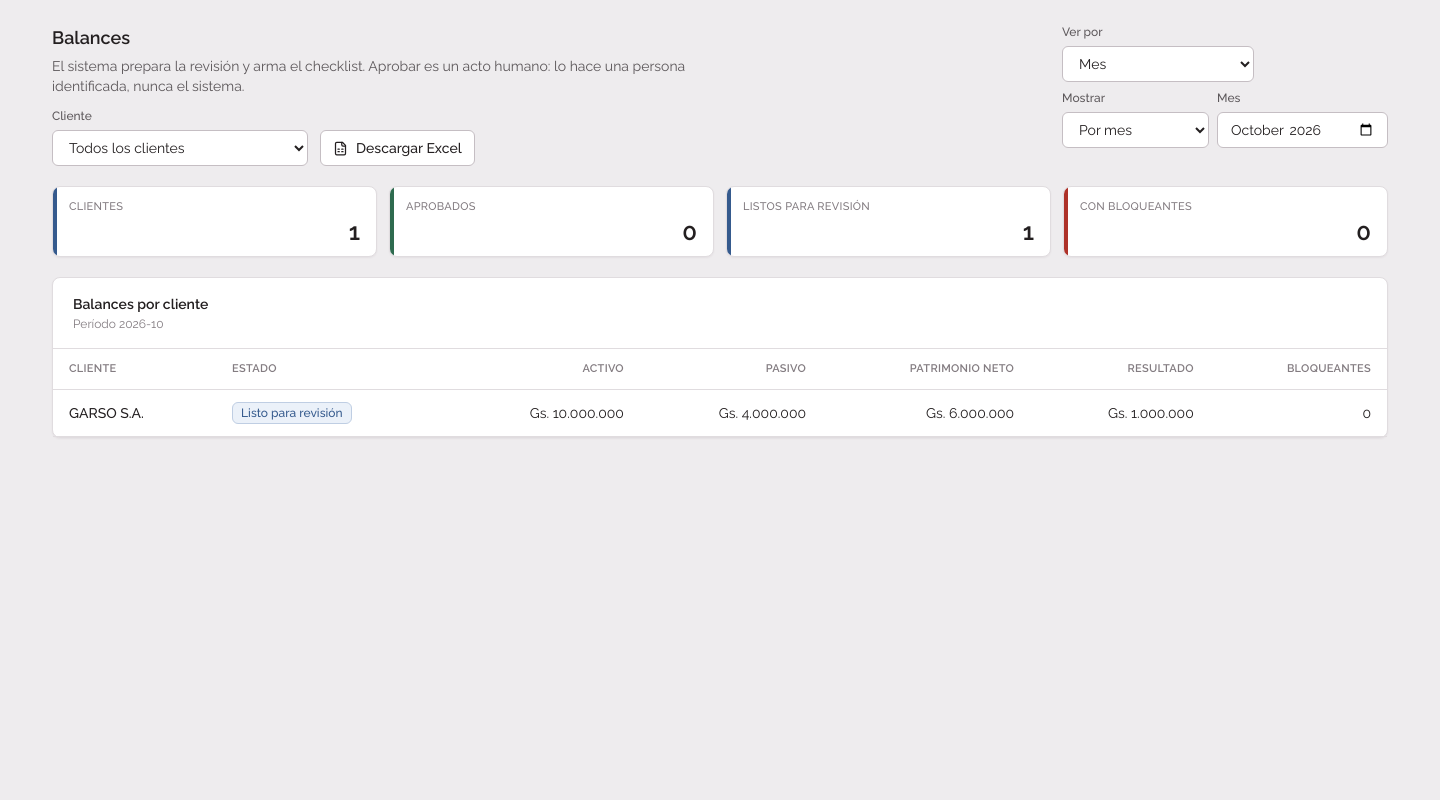
Test: pantalla de balances › dirección ve el botón de aprobar, habilitado cuando está listo y sin bloqueantes
Click the cell "GARSO S.A." at [135, 412], box [53, 389, 216, 436]
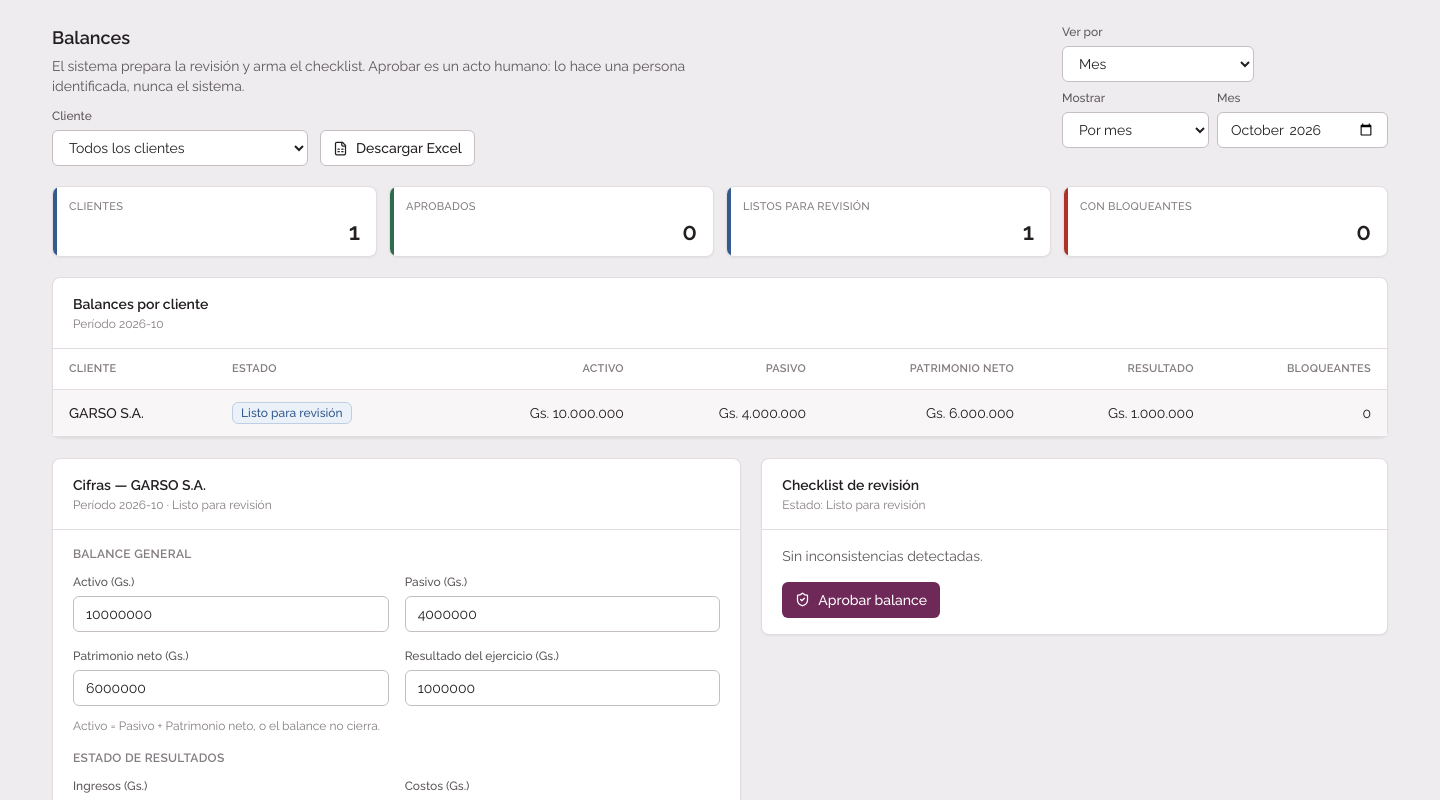
Check: the button "Aprobar balance" is enabled, box [782, 582, 940, 618]
